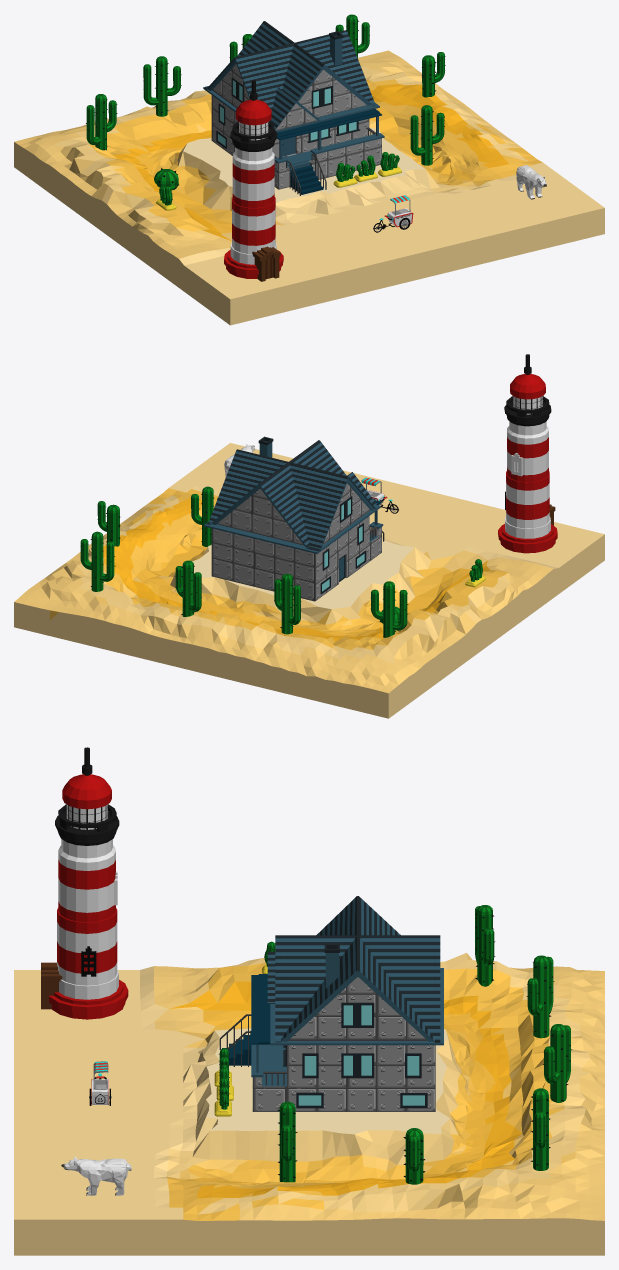
3 renders of one model, top to bottom at view 1: azimuth 30°, elevation 25°; view 2: azimuth 150°, elevation 25°; view 3: azimuth 270°, elevation 25°, orthographic. The views are drawn at different scales.
Visible parts, largest first — view 1: Cube.001, Cube.078, OBJRANDOM_LIGHTHOUSE, Cylinder.044, Cylinder.037, Cylinder.045, Cylinder.038, ANIMAL_OSO_POLAR, VEHICLES_SNOWBAL_BIKE, Cylinder.042, Cylinder.039, Cylinder.041; view 2: Cube.001, Cube.078, OBJRANDOM_LIGHTHOUSE, Cylinder.042, Cylinder.045, Cylinder.044, Cylinder.043, Cylinder.037, Cylinder.038; view 3: Cube.001, Cube.078, OBJRANDOM_LIGHTHOUSE, Cylinder.044, Cylinder.043, ANIMAL_OSO_POLAR, Cylinder.045, Cylinder.037, Cylinder.042, Cylinder.038, VEHICLES_SNOWBAL_BIKE.
Part boxes in pixels (x1,y1,x2,y2): Cube.001: (14, 50, 604, 325); Cube.078: (203, 21, 384, 195); OBJRANDOM_LIGHTHOUSE: (224, 80, 283, 281); Cylinder.044: (143, 56, 181, 116); Cylinder.037: (410, 105, 444, 165); Cylinder.045: (86, 94, 117, 150); Cylinder.038: (422, 52, 445, 97); ANIMAL_OSO_POLAR: (516, 165, 546, 199); VEHICLES_SNOWBAL_BIKE: (373, 195, 413, 232); Cylinder.042: (335, 14, 369, 58); Cylinder.039: (333, 162, 357, 187); Cylinder.041: (378, 152, 401, 176); Cube.001: (14, 443, 604, 718); Cube.078: (204, 436, 384, 601); OBJRANDOM_LIGHTHOUSE: (498, 354, 557, 553); Cylinder.042: (80, 531, 115, 591); Cylinder.045: (370, 581, 408, 637); Cylinder.044: (274, 573, 301, 634); Cylinder.043: (175, 560, 201, 616); Cylinder.037: (191, 486, 217, 546); Cylinder.038: (97, 501, 120, 546); Cube.001: (14, 952, 604, 1255); Cube.078: (219, 896, 443, 1111); OBJRANDOM_LIGHTHOUSE: (41, 747, 128, 1019); Cylinder.044: (526, 955, 554, 1038); Cylinder.043: (543, 1024, 571, 1102); ANIMAL_OSO_POLAR: (61, 1156, 131, 1195); Cylinder.045: (475, 905, 495, 986); Cylinder.037: (277, 1101, 297, 1182); Cylinder.042: (531, 1088, 550, 1170); Cylinder.038: (403, 1128, 425, 1184); VEHICLES_SNOWBAL_BIKE: (89, 1061, 111, 1105).
Bounding box in the file's own units: 4002 × 2351 × 4001.
33 materials, 4 textured.
